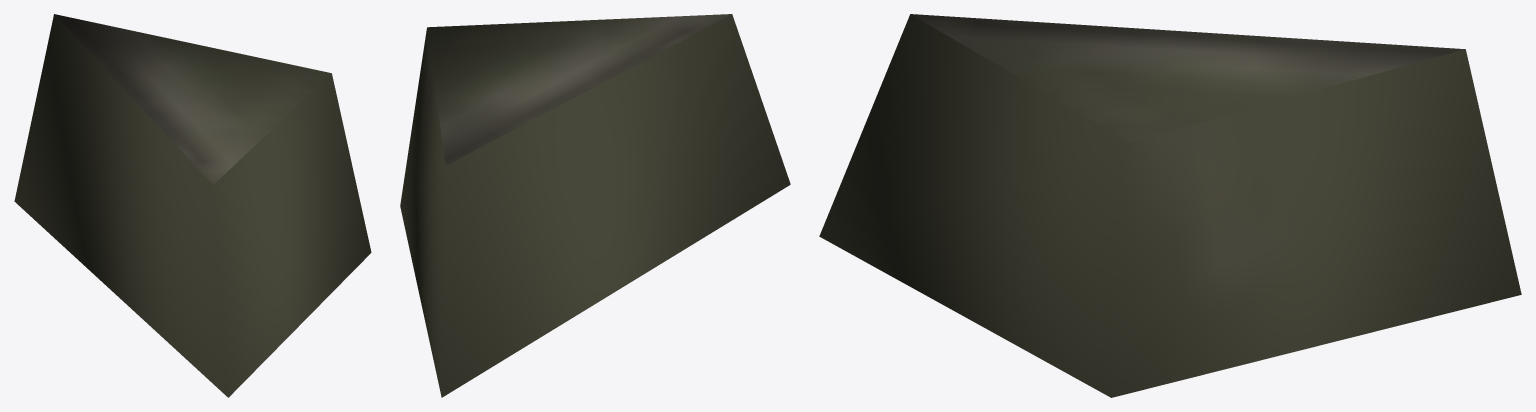
File: sn_longmai_shibian_008.FBX
3 renders of one model, left to right at view 1: azimuth 30°, elevation 25°; view 2: azimuth 150°, elevation 25°; view 3: azimuth 270°, elevation 25°, orthographic. The views are drawn at different scales.
Parts seen in each view (by area): view 1: sn_longmai_shibian_008; view 2: sn_longmai_shibian_008; view 3: sn_longmai_shibian_008.
Boxes of the visible parts, <box> form: sn_longmai_shibian_008: <box>14,14,371,397</box>; sn_longmai_shibian_008: <box>400,14,790,397</box>; sn_longmai_shibian_008: <box>819,14,1521,397</box>.
Bounding box in the file's own units: 21.6 × 16.02 × 39.71.
